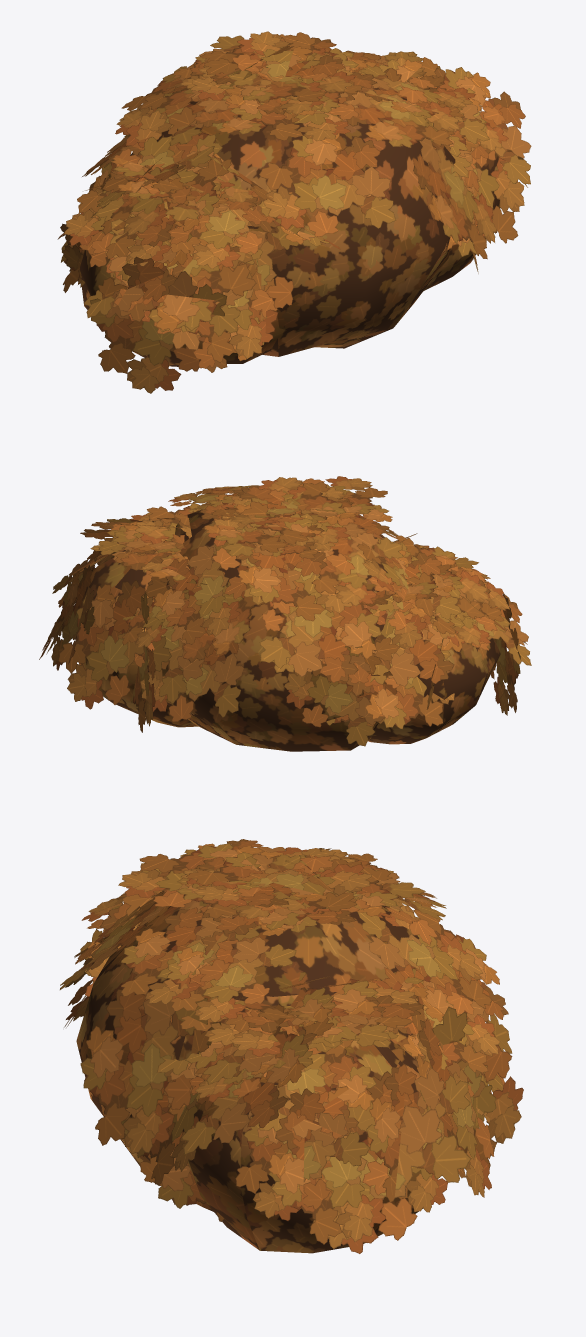
The model's file is bush_autumn.glb.
3 renders of one model, top to bottom at view 1: azimuth 30°, elevation 25°; view 2: azimuth 150°, elevation 25°; view 3: azimuth 270°, elevation 25°, orthographic. The views are drawn at different scales.
Visible parts, largest first — view 1: model; view 2: model; view 3: model.
Part boxes in pixels (left/top/right/bottom): model: left=57, top=31, right=531, bottom=393; model: left=39, top=476, right=531, bottom=751; model: left=60, top=839, right=523, bottom=1253.
Size of the model in its own units: 1.89 by 0.997 by 1.42.
2 materials, 2 textured.
